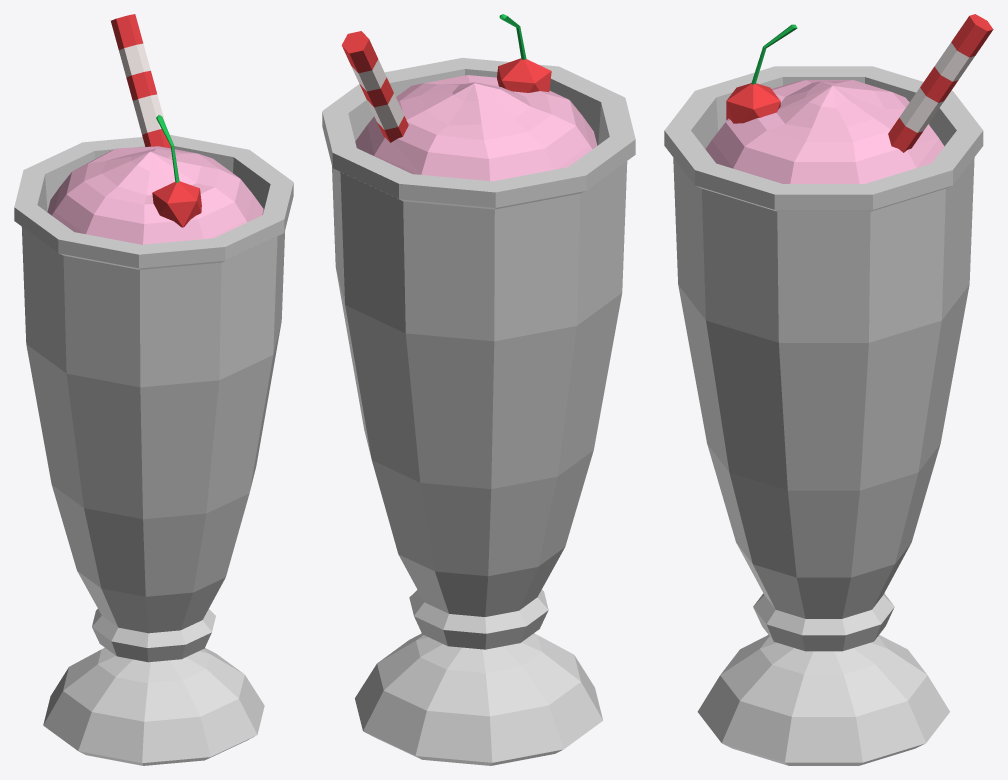
Rendered from Milkshake.glb.
3 renders of one model, left to right at view 1: azimuth 30°, elevation 25°; view 2: azimuth 150°, elevation 25°; view 3: azimuth 270°, elevation 25°, orthographic. The views are drawn at different scales.
Visible parts, largest first — view 1: Glass, Milkshake; view 2: Glass, Milkshake; view 3: Glass, Milkshake.
Boxes of the visible parts, x1,y1,x2,y2 form: Glass: (14,135,293,765); Milkshake: (47,14,263,244); Glass: (322,57,635,765); Milkshake: (341,14,597,181); Glass: (664,66,983,765); Milkshake: (705,14,993,183).
Size of the model in its own units: 0.7046 by 1.86 by 0.7645.
2 materials, 1 textured.
